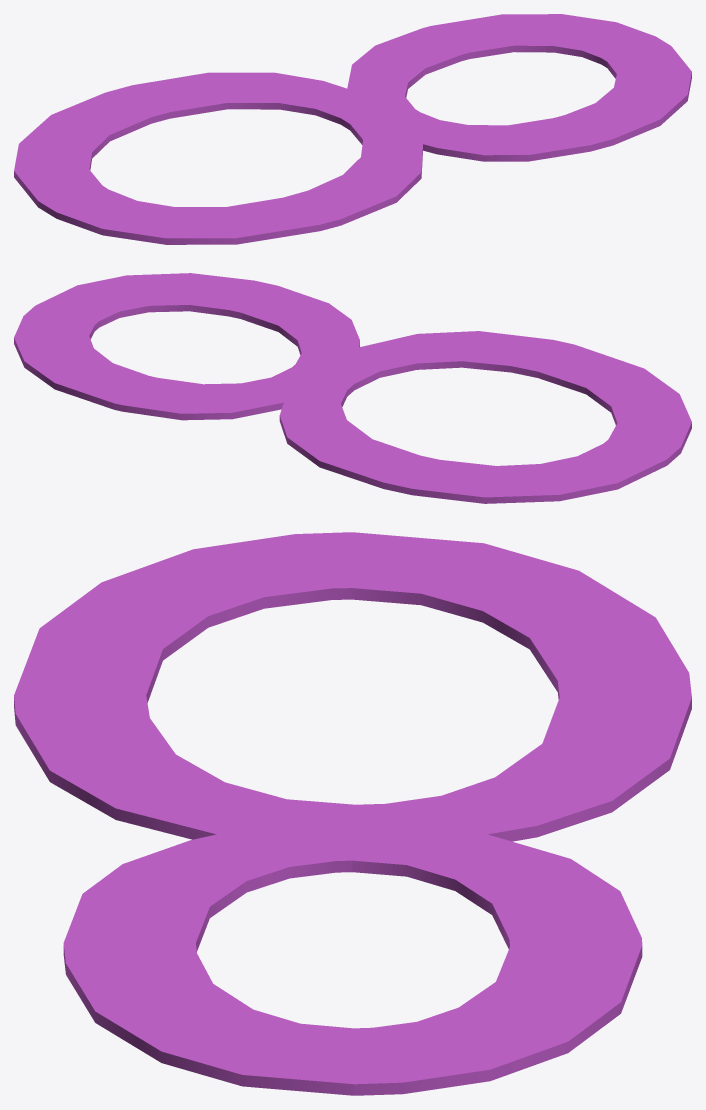
File: IMU_5.gltf
3 views of the same model, one above another, from view 1: azimuth 30°, elevation 25°; view 2: azimuth 150°, elevation 25°; view 3: azimuth 270°, elevation 25° (orthographic). The views are drawn at different scales.
Parts seen in each view (by area): view 1: mesh7535, mesh7545, mesh7533, mesh7543, mesh7539, mesh7544, mesh7542, mesh7532, mesh7538; view 2: mesh7535, mesh7546, mesh7530, mesh7540, mesh7536, mesh7547, mesh7541, mesh7531, mesh7537; view 3: mesh7535, mesh7542, mesh7541, mesh7532, mesh7531, mesh7547, mesh7544, mesh7538, mesh7537.
Part boxes in pixels (x1=…): mesh7535: x1=14, y1=14, x2=691, y2=238; mesh7545: x1=38, y1=201, x2=320, y2=244; mesh7533: x1=170, y1=103, x2=349, y2=129; mesh7543: x1=423, y1=144, x2=590, y2=161; mesh7539: x1=469, y1=45, x2=607, y2=67; mesh7544: x1=320, y1=149, x2=422, y2=230; mesh7542: x1=590, y1=73, x2=691, y2=151; mesh7532: x1=89, y1=112, x2=169, y2=170; mesh7538: x1=405, y1=52, x2=469, y2=97; mesh7535: x1=14, y1=273, x2=691, y2=497; mesh7546: x1=383, y1=459, x2=667, y2=503; mesh7530: x1=354, y1=361, x2=537, y2=389; mesh7540: x1=114, y1=402, x2=283, y2=420; mesh7536: x1=99, y1=305, x2=240, y2=327; mesh7547: x1=279, y1=415, x2=383, y2=488; mesh7541: x1=14, y1=338, x2=113, y2=409; mesh7531: x1=538, y1=371, x2=617, y2=424; mesh7537: x1=241, y1=313, x2=301, y2=354; mesh7535: x1=14, y1=532, x2=691, y2=1084; mesh7542: x1=63, y1=945, x2=354, y2=1095; mesh7541: x1=354, y1=946, x2=642, y2=1095; mesh7532: x1=352, y1=588, x2=559, y2=699; mesh7531: x1=146, y1=588, x2=352, y2=702; mesh7547: x1=488, y1=698, x2=691, y2=841; mesh7544: x1=14, y1=697, x2=216, y2=839; mesh7538: x1=352, y1=860, x2=509, y2=948; mesh7537: x1=196, y1=860, x2=352, y2=951.
Bounding box in the file's own units: 0.00103 × 1e-05 × 0.000532.
